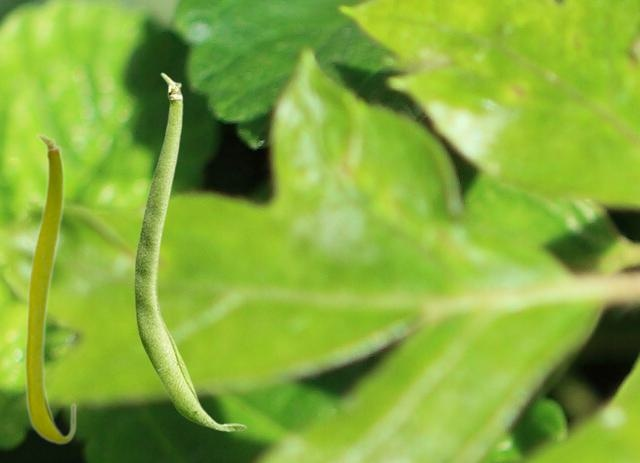french_bean: (134, 72, 246, 431), (23, 132, 76, 444)
